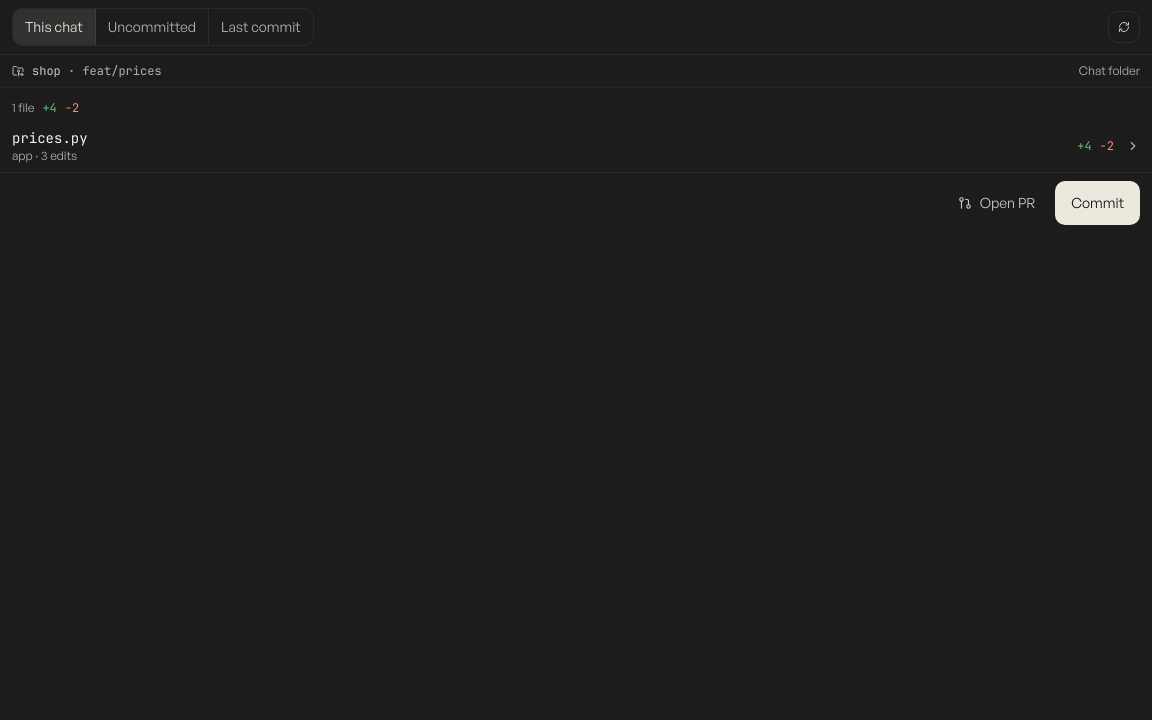
Test: Revert file › Cancel sends nothing
The image size is (1152, 720).
What coordinates should you click on to do the following:
click the button with test id "chat-change-row"
I would click on:
 (50, 138)
Its box is [0, 120, 1151, 172].
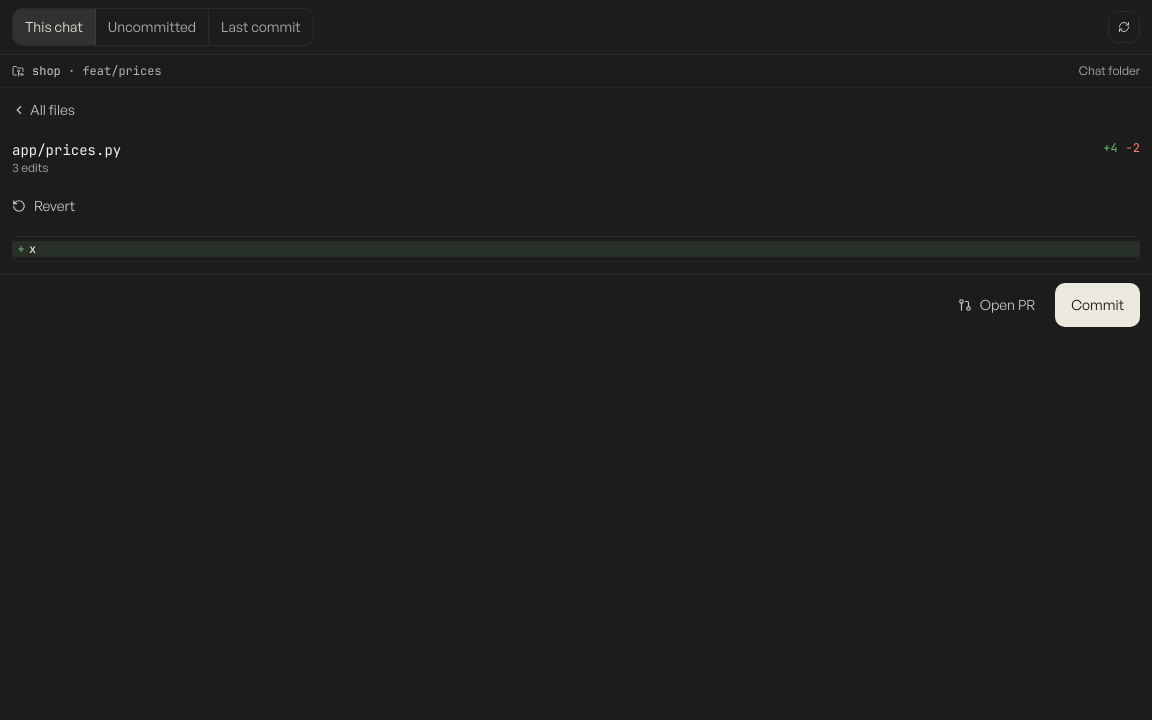
What coordinates should you click on to do the following:
click the button with test id "chat-change-revert"
I would click on:
 (44, 206)
Its box is [0, 184, 87, 228].
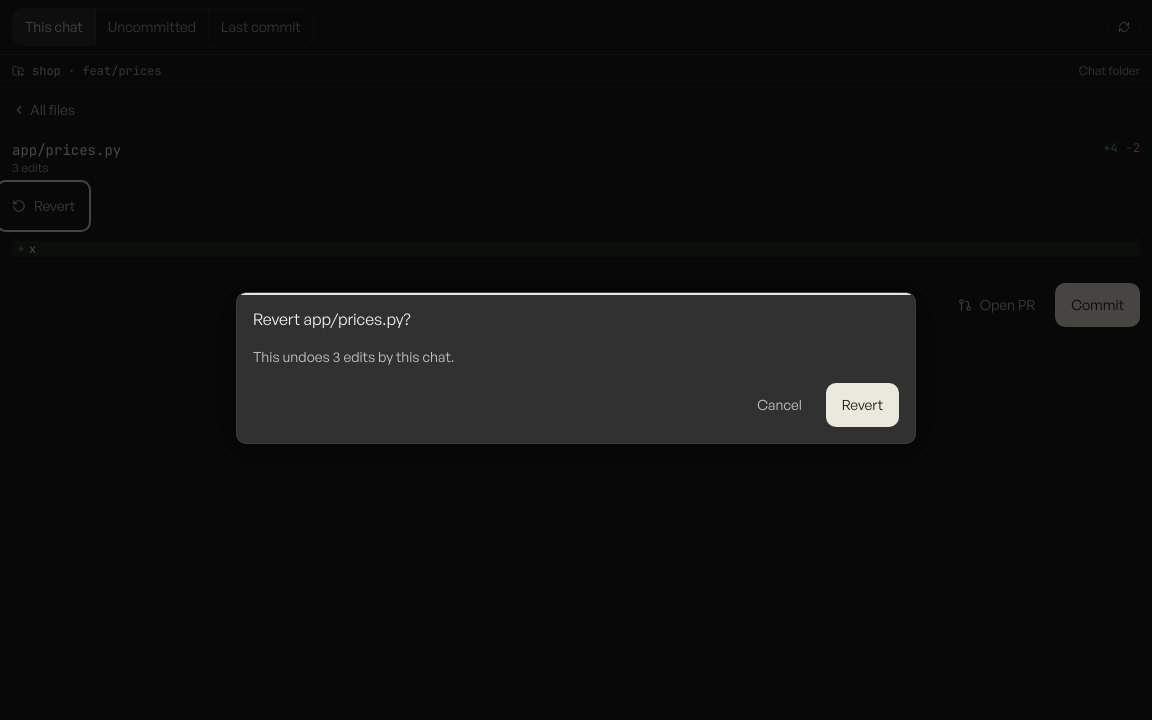
What coordinates should you click on to do the following:
click the button "Cancel"
I would click on:
 (780, 405)
Its box is [741, 383, 818, 427].
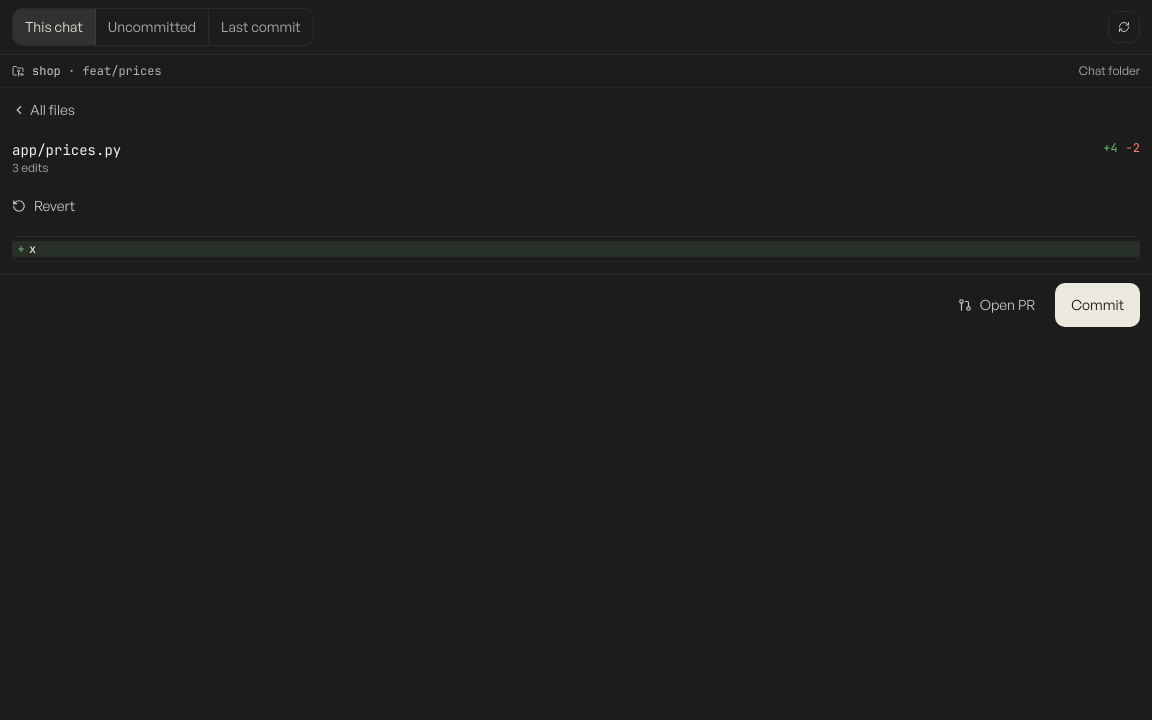
Expected: the element with test id "revert-sheet" is gone
